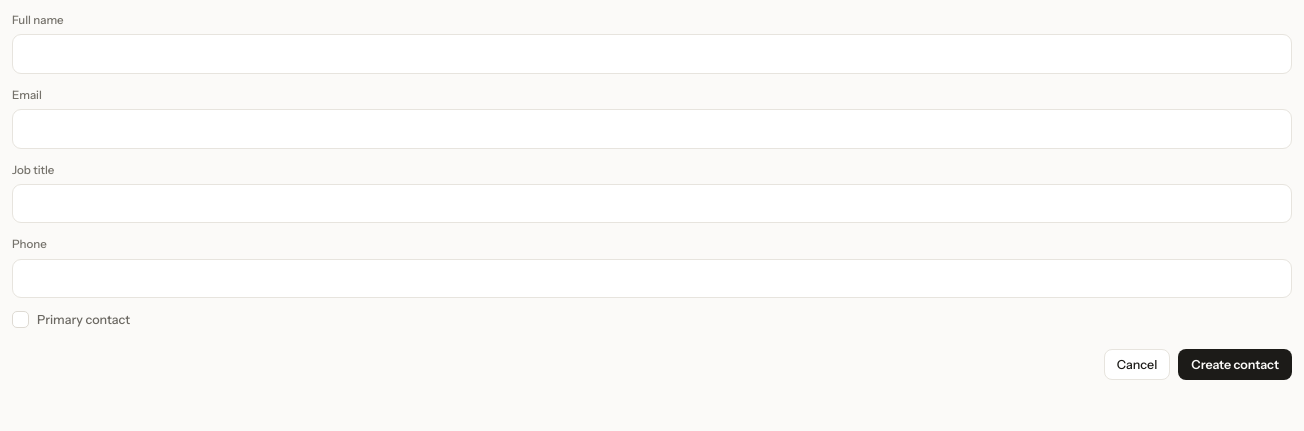
ContactForm › refuses to submit without the two values the record cannot exist without
Click the button "Create contact". click: [1235, 364]
box: x1=1178 y1=348 x2=1292 y2=380
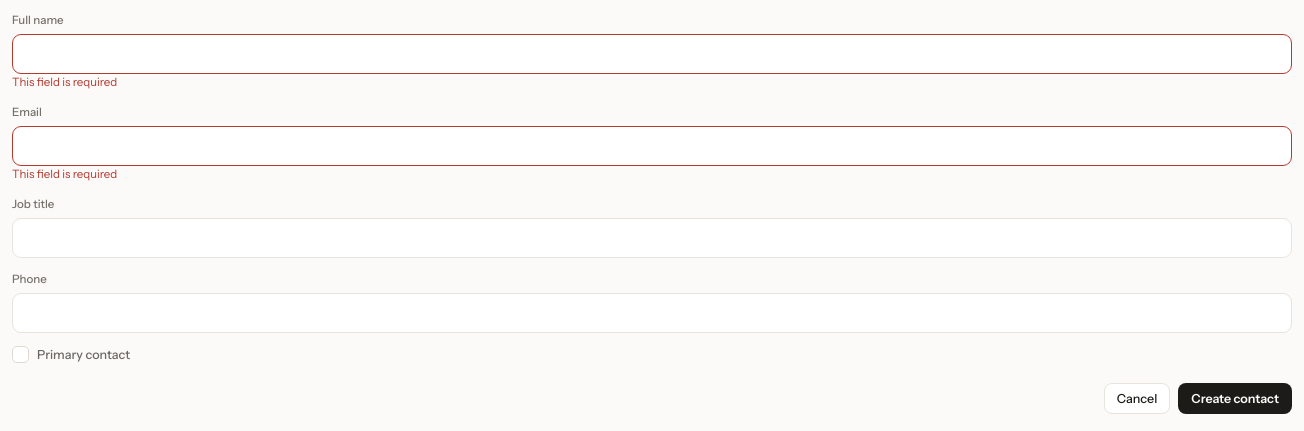
Check: the text "This field is required" is shown 2 times, box x1=12 y1=75 x2=117 y2=89; x1=12 y1=167 x2=117 y2=181
